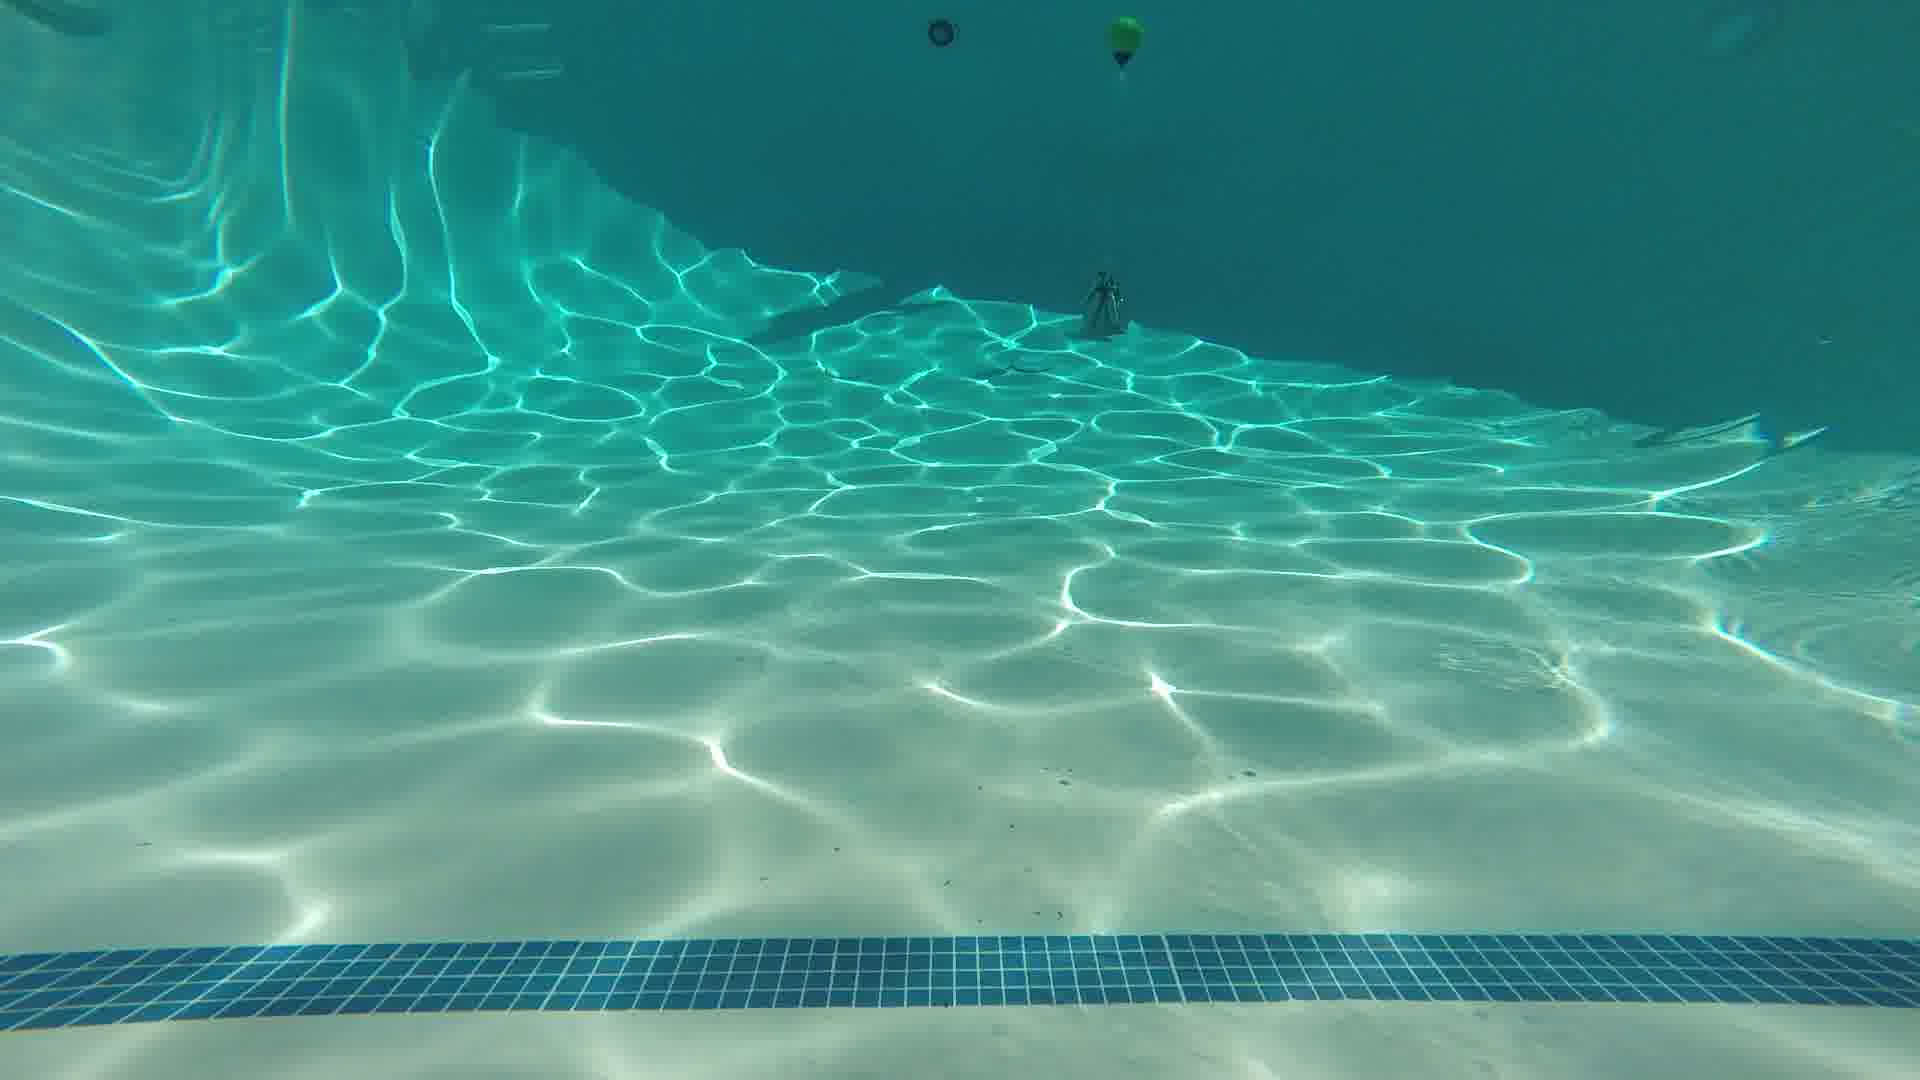yellow buoy: (1102, 7, 1146, 84)
